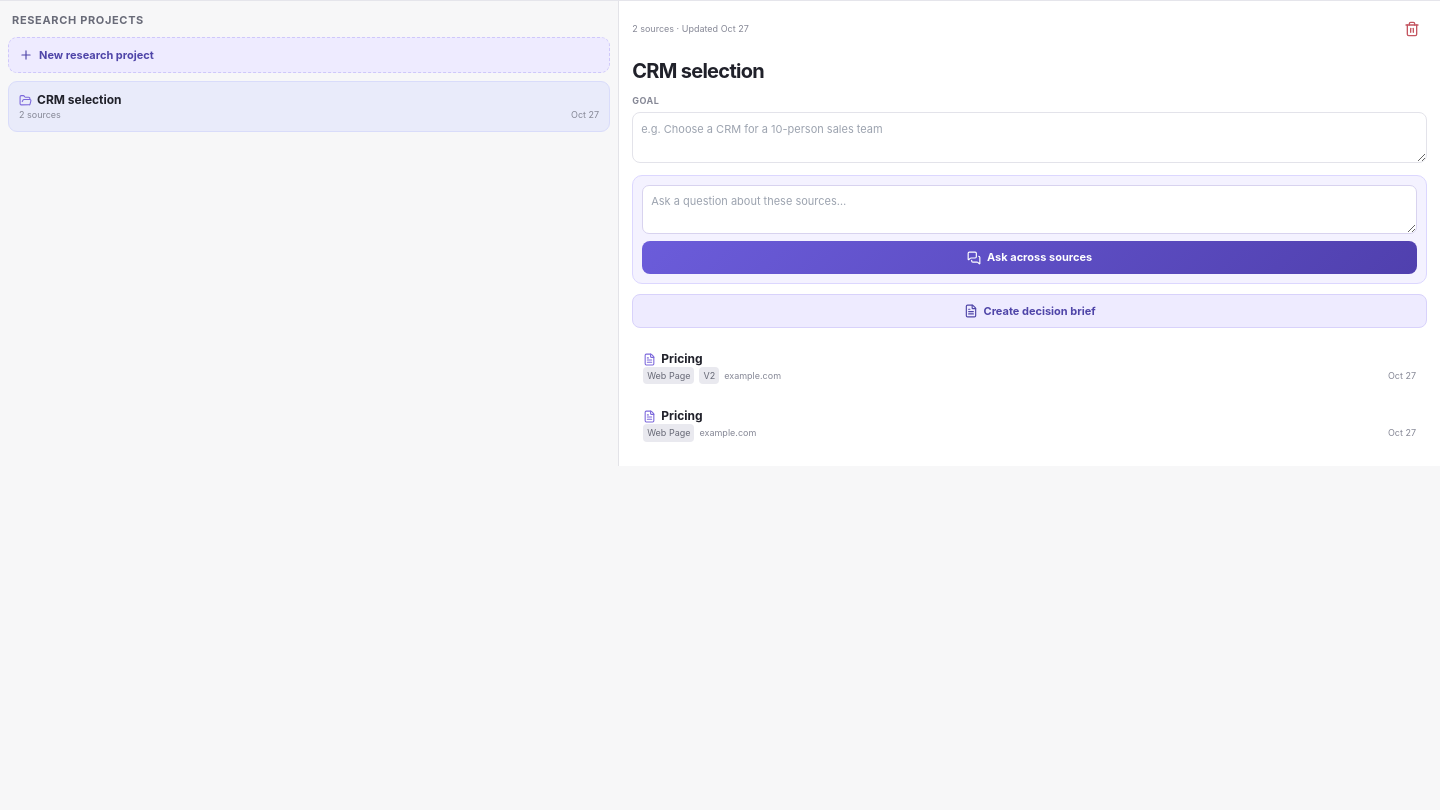
Test: project sources and snapshot viewer › lists captured sources and shows the exact snapshot
Check: the text "v2" is shown, box [700,367,719,384]
Click the 1st text "Pricing". click: (682,359)
box: [661,351,702,367]
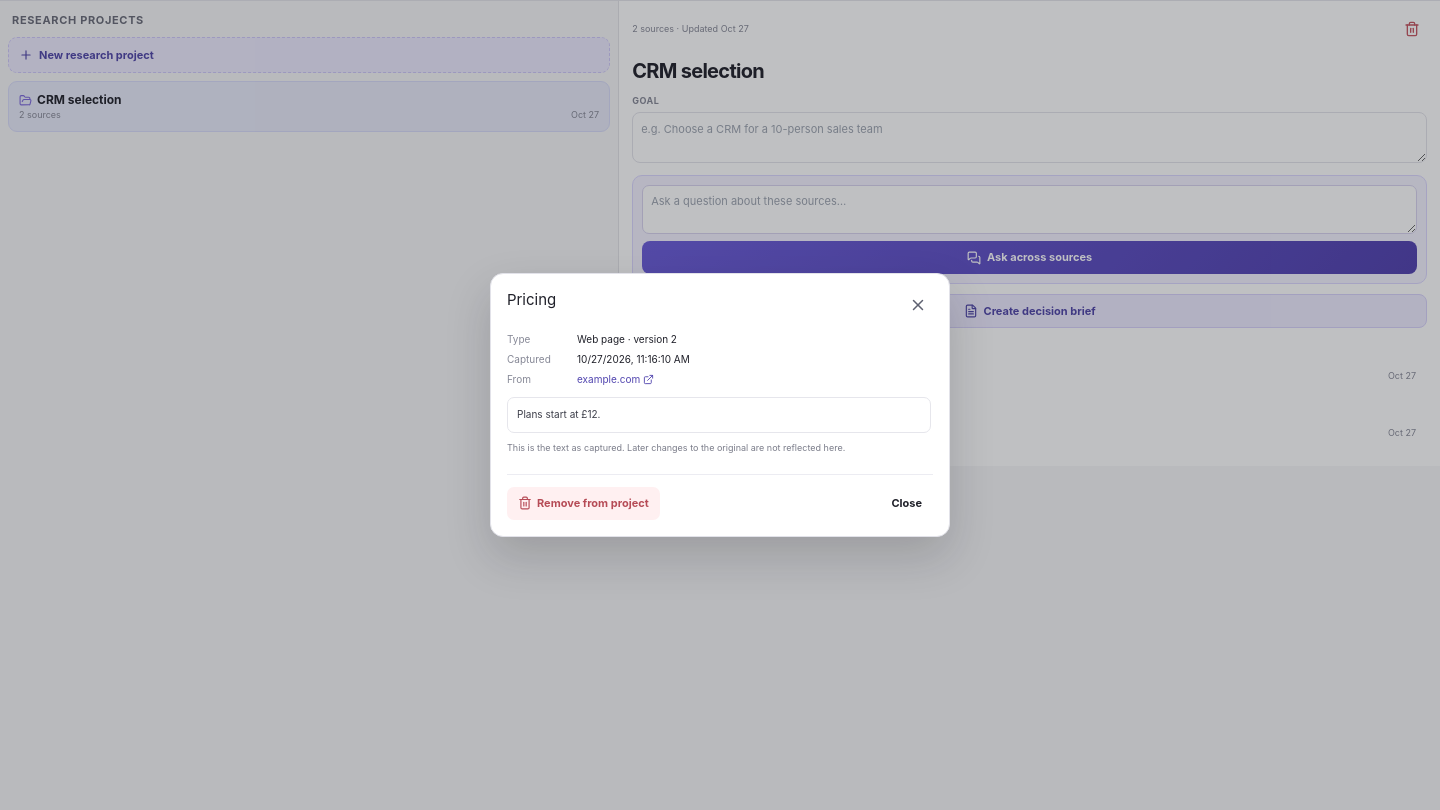
Check: the dialog named "Snapshot: Pricing" shows "version 2", box [625,334,677,346]
Check: the text named "Captured text" reads "Plans start at £12.", box [517,408,600,420]
Click the button "Remove from project". click: (583,503)
box: [507,487,660,520]
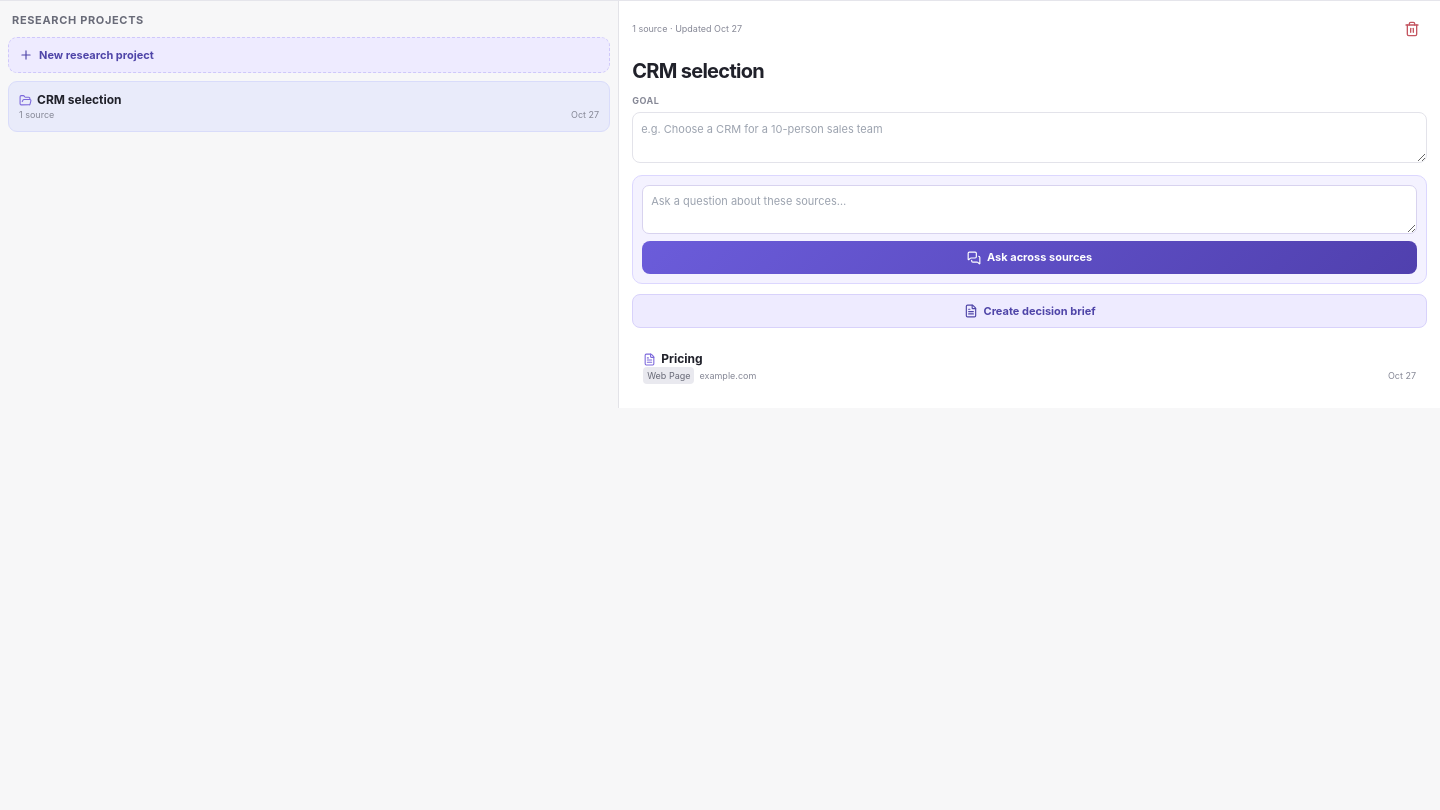
Check: the dialog is gone
